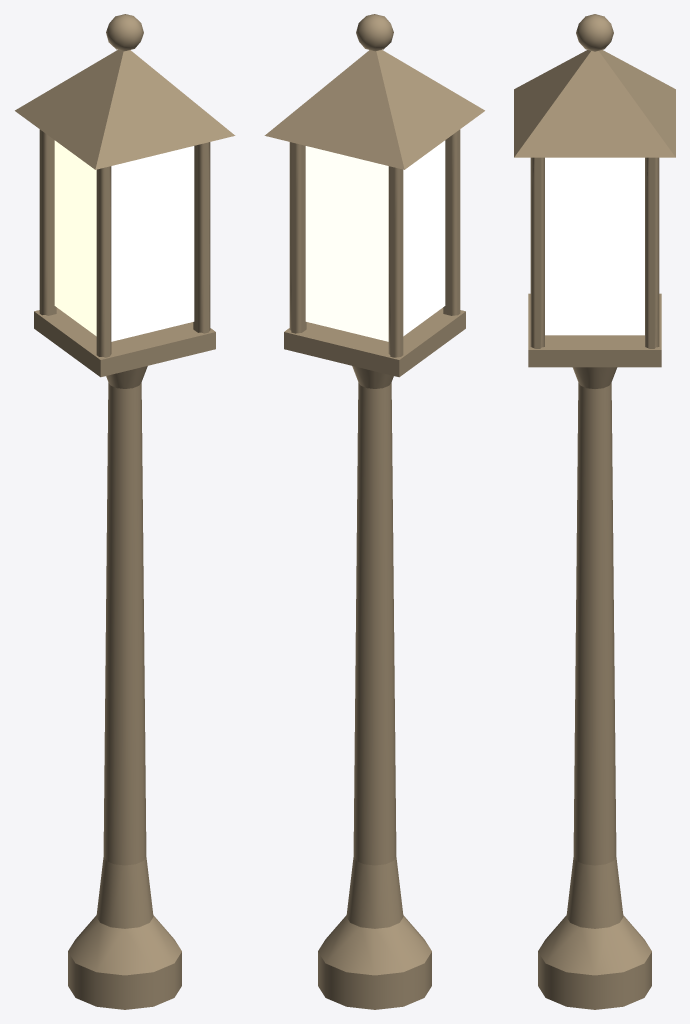
The model's file is lantern_post.glb.
3 views of the same model, side by side, from view 1: azimuth 30°, elevation 25°; view 2: azimuth 150°, elevation 25°; view 3: azimuth 270°, elevation 25° (orthographic).
Parts seen in each view (by area): view 1: lantern_post_bronze, lantern_post_lamp_glass; view 2: lantern_post_bronze, lantern_post_lamp_glass; view 3: lantern_post_bronze, lantern_post_lamp_glass.
Boxes of the visible parts, box(x1,y1,x2,y2) form: lantern_post_bronze: box(15, 14, 235, 1009); lantern_post_lamp_glass: box(54, 140, 194, 341); lantern_post_bronze: box(264, 14, 484, 1009); lantern_post_lamp_glass: box(305, 140, 445, 341); lantern_post_bronze: box(514, 14, 675, 1009); lantern_post_lamp_glass: box(545, 157, 644, 335).
Size of the model in its own units: 0.34 by 2.25 by 0.34.
